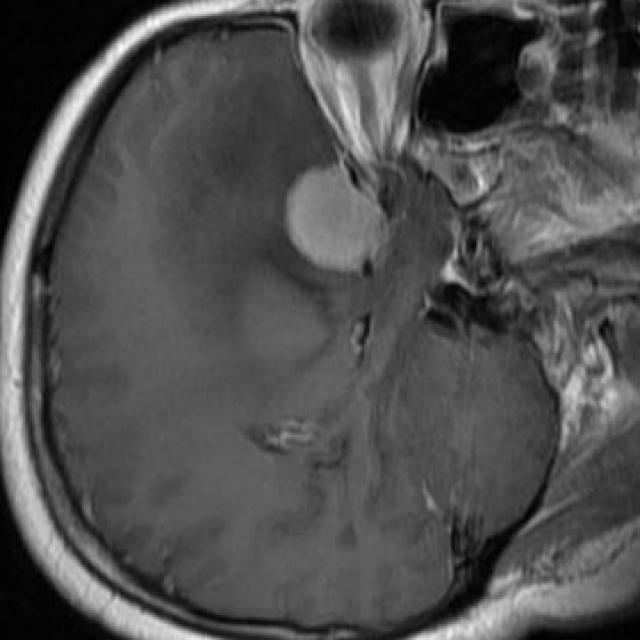meningioma: (287, 166, 380, 271)
